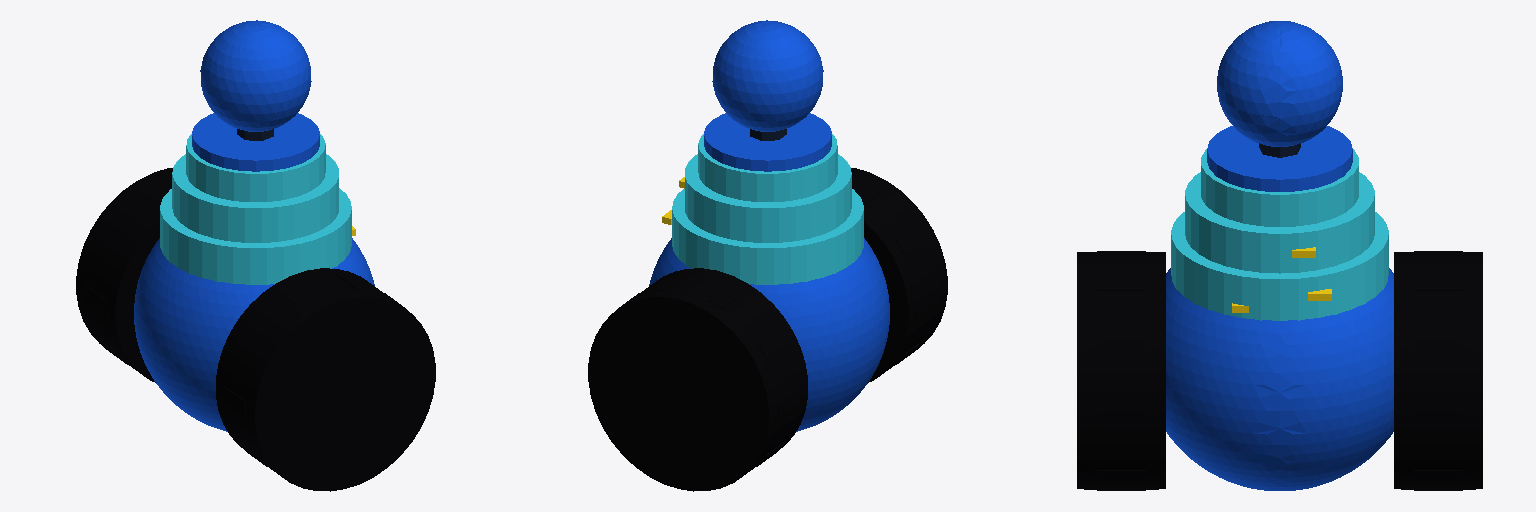
robot.urdf — selfbalance:
<?xml version="1.0"?>
<robot name="selfbalance">
  <material name="body_dark">
    <color rgba="0.12 0.38 0.88 1.0"/>
  </material>
  <material name="body_light">
    <color rgba="0.25 0.82 0.90 1.0"/>
  </material>
  <material name="tire_black">
    <color rgba="0.05 0.05 0.06 1.0"/>
  </material>
  <material name="neck_black">
    <color rgba="0.10 0.14 0.22 1.0"/>
  </material>
  <material name="accent_yellow">
    <color rgba="1.0 0.85 0.10 1.0"/>
  </material>

  <link name="base_link">
    <inertial>
      <origin xyz="0 0 0.0600" rpy="0 0 0"/>
      <mass value="1.2"/>
      <inertia ixx="0.004" ixy="0" ixz="0" iyy="0.0045" iyz="0" izz="0.003"/>
    </inertial>

    <visual>
      <origin xyz="0 0 0" rpy="0 0 0"/>
      <geometry>
        <mesh filename="package://balancing_robot_description/meshes/base_sphere.stl"/>
      </geometry>
      <material name="body_dark"/>
    </visual>
    <visual>
      <origin xyz="0 0 0" rpy="0 0 0"/>
      <geometry>
        <mesh filename="package://balancing_robot_description/meshes/torso_mid.stl"/>
      </geometry>
      <material name="body_light"/>
    </visual>
    <visual>
      <origin xyz="0 0 0" rpy="0 0 0"/>
      <geometry>
        <mesh filename="package://balancing_robot_description/meshes/torso_upper.stl"/>
      </geometry>
      <material name="body_dark"/>
    </visual>
    <visual>
      <origin xyz="0 0 0" rpy="0 0 0"/>
      <geometry>
        <mesh filename="package://balancing_robot_description/meshes/neck.stl"/>
      </geometry>
      <material name="neck_black"/>
    </visual>
    <visual>
      <origin xyz="0 0 0" rpy="0 0 0"/>
      <geometry>
        <mesh filename="package://balancing_robot_description/meshes/head.stl"/>
      </geometry>
      <material name="body_dark"/>
    </visual>
    <visual>
      <origin xyz="0.0644 0 0.0800" rpy="0 0 0"/>
      <geometry>
        <mesh filename="package://balancing_robot_description/meshes/power_button.stl"/>
      </geometry>
      <material name="accent_yellow"/>
    </visual>

    <visual>
      <origin xyz="0.0522 0.0200 0.1265" rpy="0 0 0"/>
      <geometry>
        <mesh filename="package://balancing_robot_description/meshes/accent_bar.stl"/>
      </geometry>
      <material name="accent_yellow"/>
    </visual>
    <visual>
      <origin xyz="0.0495 -0.0180 0.1185" rpy="0 0 0"/>
      <geometry>
        <mesh filename="package://balancing_robot_description/meshes/accent_bar.stl"/>
      </geometry>
      <material name="accent_yellow"/>
    </visual>
    <visual>
      <origin xyz="0.0456 0.0120 0.1475" rpy="0 0 0"/>
      <geometry>
        <mesh filename="package://balancing_robot_description/meshes/accent_bar.stl"/>
      </geometry>
      <material name="accent_yellow"/>
    </visual>

    <collision>
      <origin xyz="0 0 0.0800" rpy="0 0 0"/>
      <geometry>
        <sphere radius="0.0574"/>
      </geometry>
    </collision>
    <collision>
      <origin xyz="0 0 0.1475" rpy="0 0 0"/>
      <geometry>
        <cylinder radius="0.0550" length="0.0680"/>
      </geometry>
    </collision>
    <collision>
      <origin xyz="0 0 0.2197" rpy="0 0 0"/>
      <geometry>
        <sphere radius="0.0320"/>
      </geometry>
    </collision>
    <!-- Thin foot keeps two-wheel model upright for manual teleop -->
    <collision>
      <origin xyz="0 0 0.005" rpy="0 0 0"/>
      <geometry>
        <box size="0.08 0.10 0.008"/>
      </geometry>
    </collision>
  </link>

  <link name="left_wheel">
    <inertial>
      <origin xyz="0 0 0" rpy="0 0 0"/>
      <mass value="0.12"/>
      <inertia ixx="0.00018" ixy="0" ixz="0" iyy="0.00032" iyz="0" izz="0.00018"/>
    </inertial>
    <visual>
      <origin xyz="0 0 0" rpy="0 0 0"/>
      <geometry>
        <mesh filename="package://balancing_robot_description/meshes/wheel.stl"/>
      </geometry>
      <material name="tire_black"/>
    </visual>
    <collision>
      <origin xyz="0 0 0" rpy="1.5708 0 0"/>
      <geometry>
        <cylinder radius="0.0600" length="0.0450"/>
      </geometry>
    </collision>
  </link>

  <joint name="left_wheel_joint" type="continuous">
    <parent link="base_link"/>
    <child link="left_wheel"/>
    <origin xyz="0 0.0800 0.0600" rpy="0 0 0"/>
    <axis xyz="0 1 0"/>
    <limit effort="12" velocity="25"/>
    <dynamics damping="0.1" friction="0.2"/>
  </joint>

  <link name="right_wheel">
    <inertial>
      <origin xyz="0 0 0" rpy="0 0 0"/>
      <mass value="0.12"/>
      <inertia ixx="0.00018" ixy="0" ixz="0" iyy="0.00032" iyz="0" izz="0.00018"/>
    </inertial>
    <visual>
      <origin xyz="0 0 0" rpy="0 0 0"/>
      <geometry>
        <mesh filename="package://balancing_robot_description/meshes/wheel.stl"/>
      </geometry>
      <material name="tire_black"/>
    </visual>
    <collision>
      <origin xyz="0 0 0" rpy="1.5708 0 0"/>
      <geometry>
        <cylinder radius="0.0600" length="0.0450"/>
      </geometry>
    </collision>
  </link>

  <joint name="right_wheel_joint" type="continuous">
    <parent link="base_link"/>
    <child link="right_wheel"/>
    <origin xyz="0 -0.0800 0.0600" rpy="0 0 0"/>
    <axis xyz="0 1 0"/>
    <limit effort="12" velocity="25"/>
    <dynamics damping="0.1" friction="0.2"/>
  </joint>

  <!-- Gazebo Classic primitive visuals -->
  <gazebo reference="base_link">
    <visual name="gz_base">
      <pose>0 0 0.0700 0 0 0</pose>
      <geometry><sphere><radius>0.0700</radius></sphere></geometry>
      <material>
        <ambient>0.08 0.25 0.65 1</ambient>
        <diffuse>0.12 0.38 0.88 1</diffuse>
        <specular>0.20 0.40 0.80 1</specular>
      </material>
    </visual>
    <visual name="gz_mid1">
      <pose>0 0 0.1225 0 0 0</pose>
      <geometry><cylinder><radius>0.0550</radius><length>0.0280</length></cylinder></geometry>
      <material>
        <ambient>0.15 0.55 0.65 1</ambient>
        <diffuse>0.25 0.82 0.90 1</diffuse>
        <specular>0.30 0.70 0.80 1</specular>
      </material>
    </visual>
    <visual name="gz_mid2">
      <pose>0 0 0.1475 0 0 0</pose>
      <geometry><cylinder><radius>0.0480</radius><length>0.0220</length></cylinder></geometry>
      <material>
        <ambient>0.15 0.55 0.65 1</ambient>
        <diffuse>0.25 0.82 0.90 1</diffuse>
        <specular>0.30 0.70 0.80 1</specular>
      </material>
    </visual>
    <visual name="gz_mid3">
      <pose>0 0 0.1675 0 0 0</pose>
      <geometry><cylinder><radius>0.0400</radius><length>0.0180</length></cylinder></geometry>
      <material>
        <ambient>0.15 0.55 0.65 1</ambient>
        <diffuse>0.25 0.82 0.90 1</diffuse>
        <specular>0.30 0.70 0.80 1</specular>
      </material>
    </visual>
    <visual name="gz_neck">
      <pose>0 0 0.1845 0 0 0</pose>
      <geometry><cylinder><radius>0.0110</radius><length>0.0160</length></cylinder></geometry>
      <material>
        <ambient>0.08 0.10 0.16 1</ambient>
        <diffuse>0.10 0.14 0.22 1</diffuse>
      </material>
    </visual>
    <visual name="gz_head">
      <pose>0 0 0.2197 0 0 0</pose>
      <geometry><sphere><radius>0.0320</radius></sphere></geometry>
      <material>
        <ambient>0.08 0.25 0.65 1</ambient>
        <diffuse>0.12 0.38 0.88 1</diffuse>
        <specular>0.20 0.40 0.80 1</specular>
      </material>
    </visual>
    <visual name="gz_button">
      <pose>0.0644 0 0.0800 0 1.5708 0</pose>
      <geometry><cylinder><radius>0.012</radius><length>0.004</length></cylinder></geometry>
      <material>
        <ambient>0.9 0.75 0.05 1</ambient>
        <diffuse>1.0 0.85 0.10 1</diffuse>
        <emissive>0.5 0.4 0.05 1</emissive>
      </material>
    </visual>
    <material>Gazebo/Blue</material>
  </gazebo>

  <gazebo reference="left_wheel">
    <visual name="gz_wheel">
      <pose>0 0 0 1.5708 0 0</pose>
      <geometry><cylinder><radius>0.0600</radius><length>0.0450</length></cylinder></geometry>
      <material>
        <ambient>0.04 0.04 0.04 1</ambient>
        <diffuse>0.06 0.06 0.06 1</diffuse>
      </material>
    </visual>
    <material>Gazebo/Black</material>
    <mu1>2.0</mu1>
    <mu2>2.0</mu2>
    <kp>1e6</kp>
    <kd>100.0</kd>
    <minDepth>0.001</minDepth>
  </gazebo>

  <gazebo reference="right_wheel">
    <visual name="gz_wheel">
      <pose>0 0 0 1.5708 0 0</pose>
      <geometry><cylinder><radius>0.0600</radius><length>0.0450</length></cylinder></geometry>
      <material>
        <ambient>0.04 0.04 0.04 1</ambient>
        <diffuse>0.06 0.06 0.06 1</diffuse>
      </material>
    </visual>
    <material>Gazebo/Black</material>
    <mu1>2.0</mu1>
    <mu2>2.0</mu2>
    <kp>1e6</kp>
    <kd>100.0</kd>
    <minDepth>0.001</minDepth>
  </gazebo>

  <gazebo>
    <plugin name="gazebo_ros_joint_state_publisher"
            filename="libgazebo_ros_joint_state_publisher.so">
      <ros>
        <remapping>~/out:=joint_states</remapping>
      </ros>
      <update_rate>50</update_rate>
      <joint_name>left_wheel_joint</joint_name>
      <joint_name>right_wheel_joint</joint_name>
    </plugin>
  </gazebo>

  <gazebo>
    <plugin name="diff_drive" filename="libgazebo_ros_diff_drive.so">
      <ros>
        <remapping>cmd_vel:=cmd_vel</remapping>
        <remapping>odom:=odom</remapping>
      </ros>
      <update_rate>50</update_rate>
      <left_joint>left_wheel_joint</left_joint>
      <right_joint>right_wheel_joint</right_joint>
      <wheel_separation>0.1600</wheel_separation>
      <wheel_diameter>0.1200</wheel_diameter>
      <max_wheel_torque>30</max_wheel_torque>
      <max_wheel_acceleration>8.0</max_wheel_acceleration>
      <publish_odom>true</publish_odom>
      <publish_odom_tf>true</publish_odom_tf>
      <publish_wheel_tf>false</publish_wheel_tf>
      <odometry_frame>odom</odometry_frame>
      <robot_base_frame>base_link</robot_base_frame>
    </plugin>
  </gazebo>
</robot>

--- Render facts (derived) ---
The picture shows the robot from 3 angles, left to right: view 1: azimuth 30°, elevation 25°; view 2: azimuth 150°, elevation 25°; view 3: azimuth 270°, elevation 25°; orthographic projection.
Model selfbalance with 3 links and 2 joints (2 continuous), rooted at base_link, posed all joints at 0.
Visible links, largest first — view 1: base_link, right_wheel, left_wheel; view 2: base_link, left_wheel, right_wheel; view 3: base_link, left_wheel, right_wheel.
Link boxes in pixels (x1=…): base_link: x1=134, y1=20, x2=374, y2=431; right_wheel: x1=216, y1=268, x2=435, y2=491; left_wheel: x1=76, y1=168, x2=172, y2=382; base_link: x1=649, y1=20, x2=889, y2=431; left_wheel: x1=588, y1=268, x2=807, y2=491; right_wheel: x1=851, y1=168, x2=947, y2=382; base_link: x1=1166, y1=21, x2=1393, y2=490; left_wheel: x1=1394, y1=251, x2=1482, y2=490; right_wheel: x1=1077, y1=251, x2=1165, y2=490.
Size in the robot's own frame: 0.1399 by 0.205 by 0.2517 metres.
Meshes: 8 distinct files referenced, 11 mesh visuals loaded (8 binary STL).
